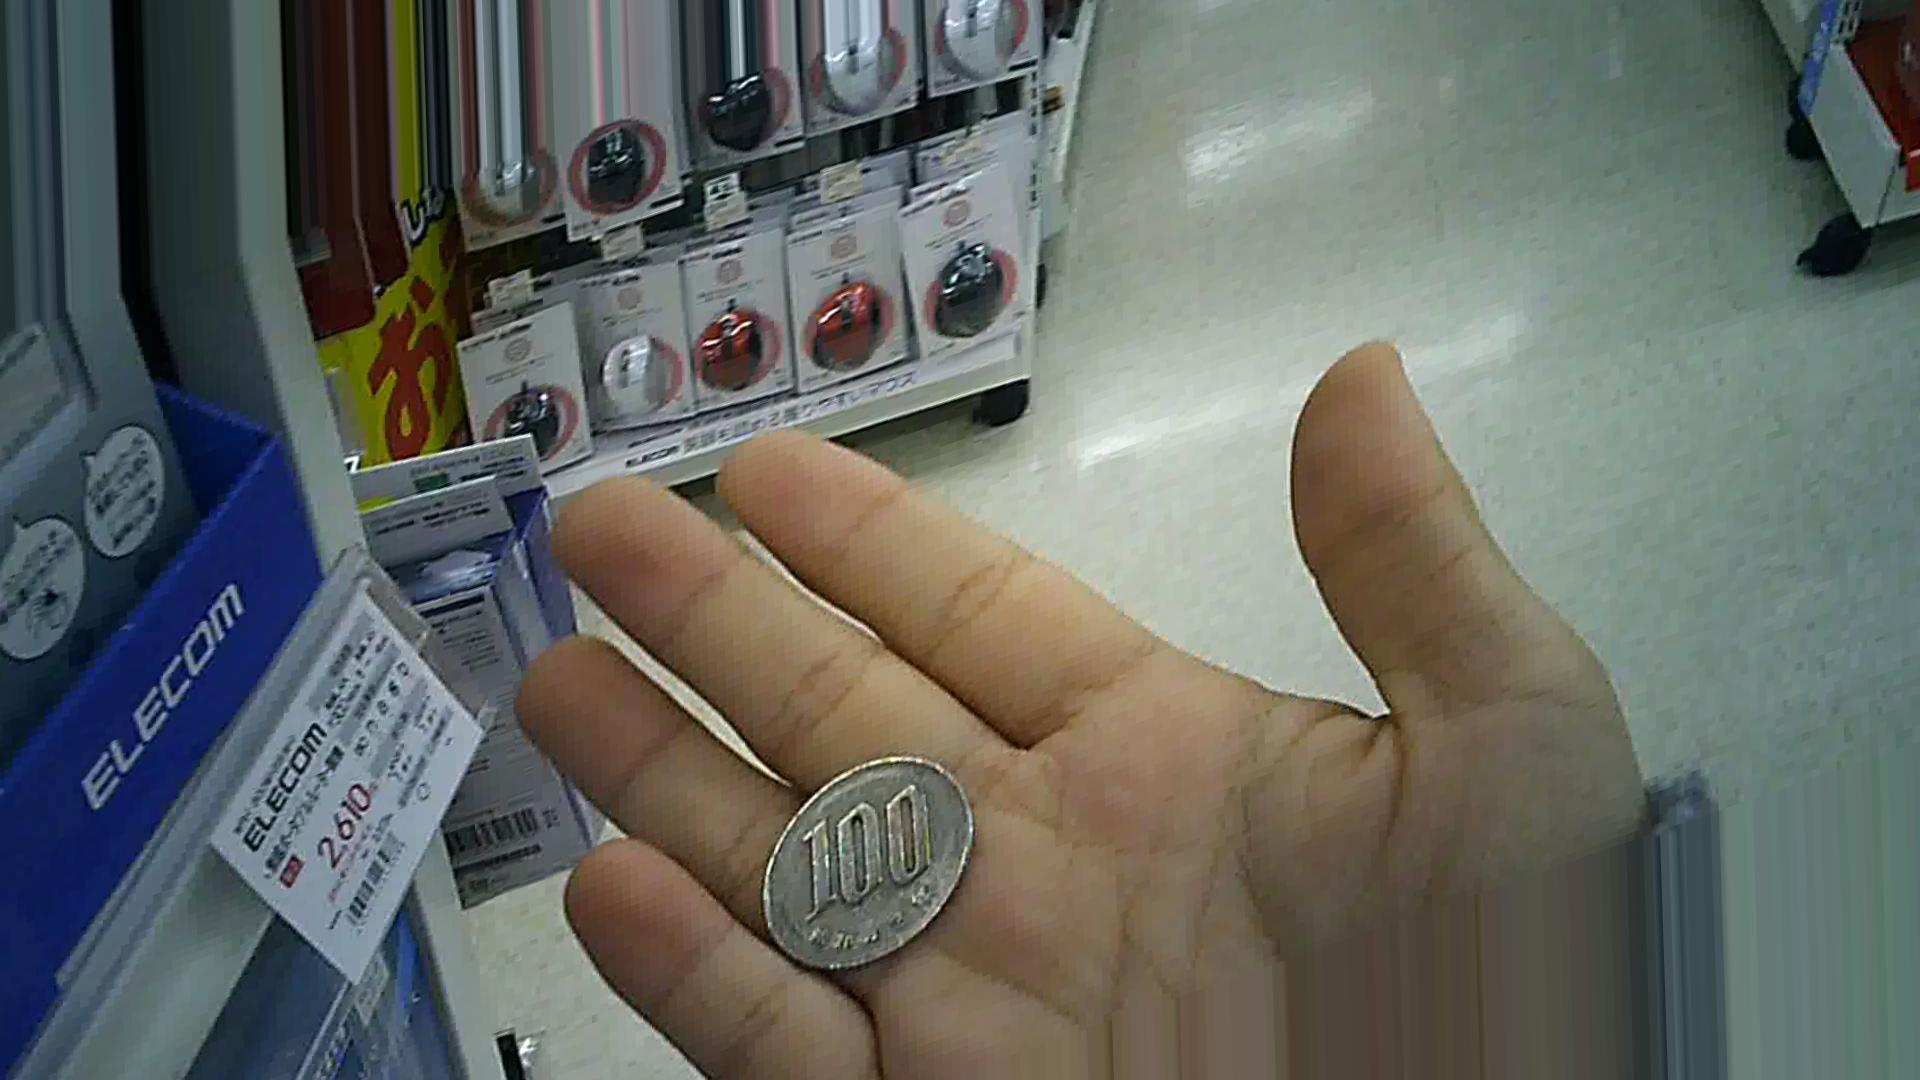100 Yen: (753, 742, 972, 973)
